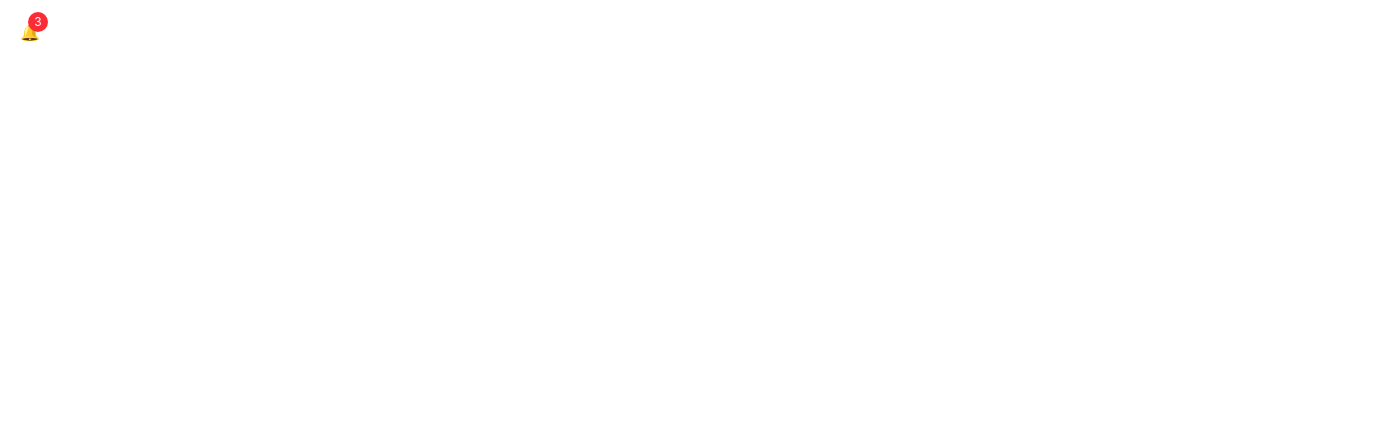
Test case: кілька подій рахуються окремо, "Прочитати всі" обнуляє лічильник
Click the button named "Сповіщення". click: (30, 32)
box: [12,12,48,52]
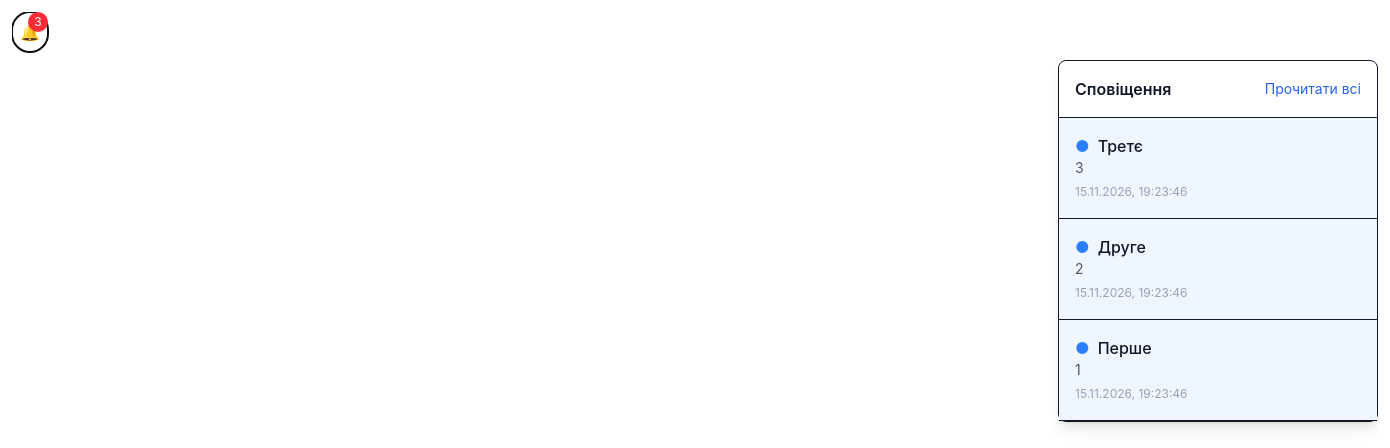
Click the button "Прочитати всі". click: (1313, 89)
box: [1265,79,1361,99]
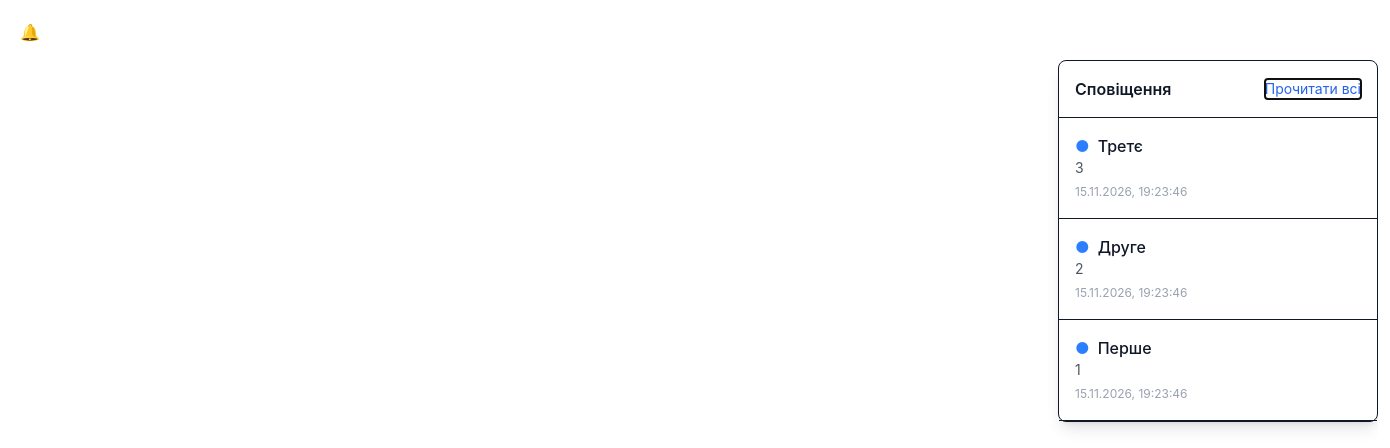
expect the button named "непрочитаних 0" is shown: met, box [12,12,48,52]
